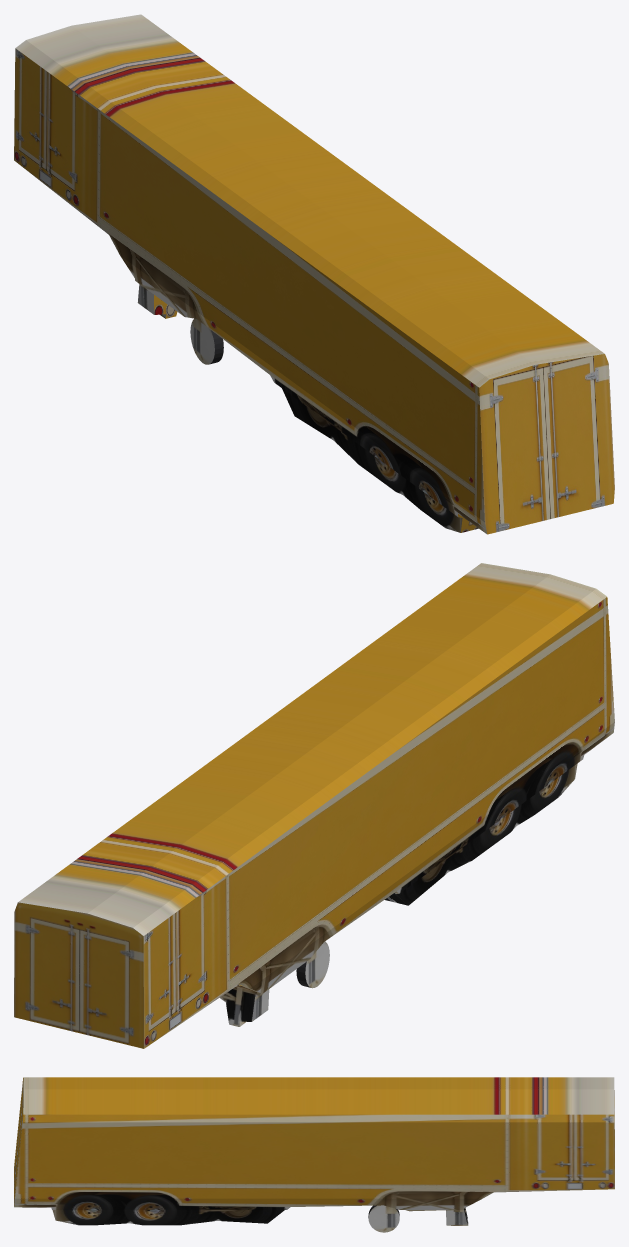
The model's file is semi_trailer_dry.glb.
3 renders of one model, top to bottom at view 1: azimuth 30°, elevation 25°; view 2: azimuth 150°, elevation 25°; view 3: azimuth 270°, elevation 25°, orthographic. The views are drawn at different scales.
Parts seen in each view (by area): view 1: semi_trailer_dry, wheel_FL; view 2: semi_trailer_dry, wheel_FL; view 3: semi_trailer_dry, wheel_FR.
Part boxes in pixels (x1,y1,x2,y2): semi_trailer_dry: (14,14,614,534); wheel_FL: (190,318,223,364); semi_trailer_dry: (14,563,614,1048); wheel_FL: (296,941,329,988); semi_trailer_dry: (14,1077,614,1225); wheel_FR: (368,1205,399,1232).
Bounding box in the file's own units: 2.58 × 3.65 × 16.16.
Materials: 3 (1 with a texture image).
